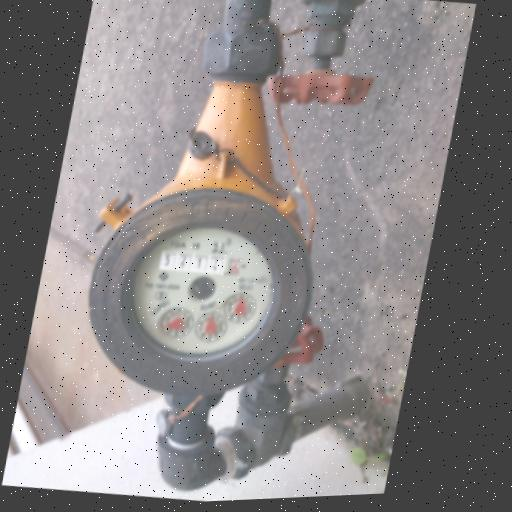1: (193, 255, 208, 271), (210, 256, 225, 272)
2: (177, 254, 192, 269)
4: (227, 258, 241, 275)
5: (162, 252, 177, 268)
border_water_meter_number: (157, 247, 243, 280)
